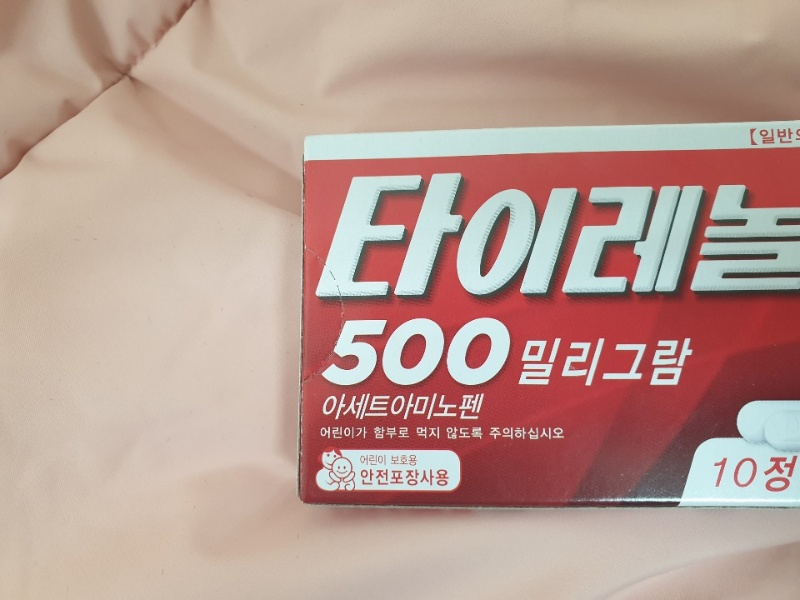tylenol: (305, 118, 800, 505)
